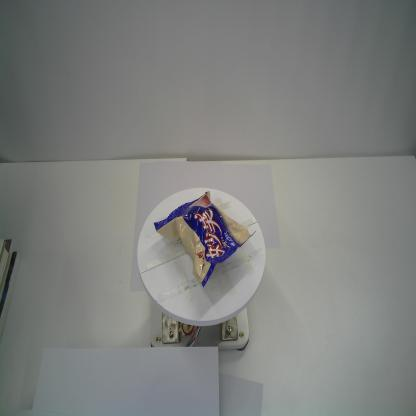Dessert: (152, 190, 258, 288)
